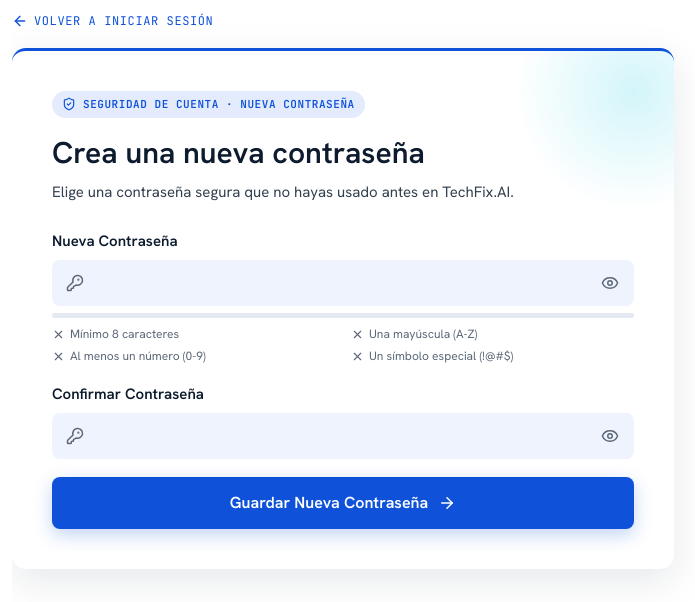
restablecer contraseña › si el token expiró ofrece pedir un enlace nuevo
This screenshot has width=695, height=602.
Type "Nueva#Clave2026" into the password field labelled "Nueva Contraseña" at (343, 283), box [52,260,634,306]
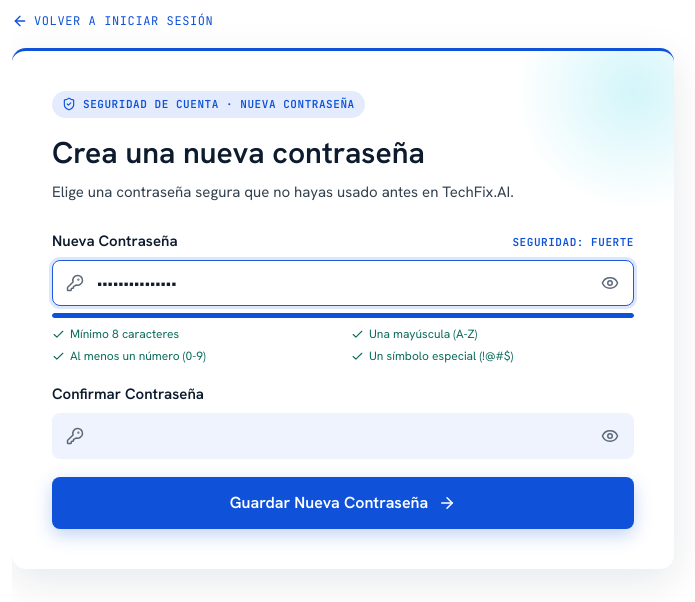
Type "Nueva#Clave2026" into the password field labelled "Confirmar Contraseña" at (343, 436), box [52,412,634,459]
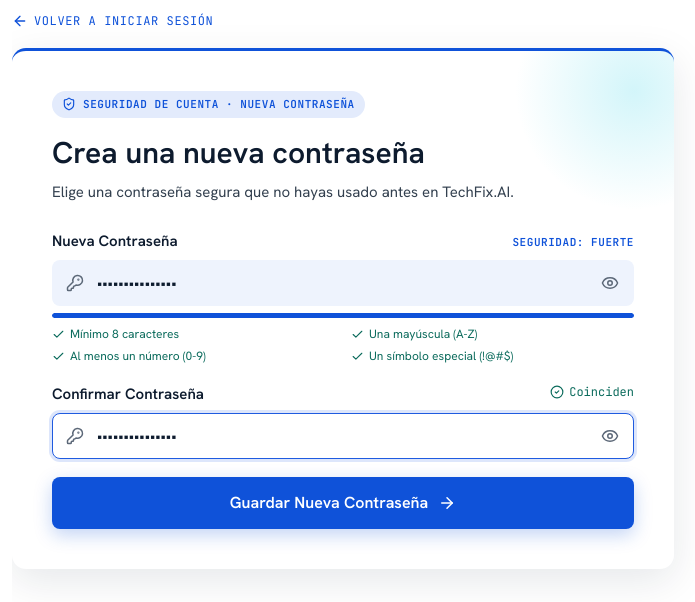
Click the button "Guardar Nueva Contraseña" at (343, 503), box [52,477,634,529]
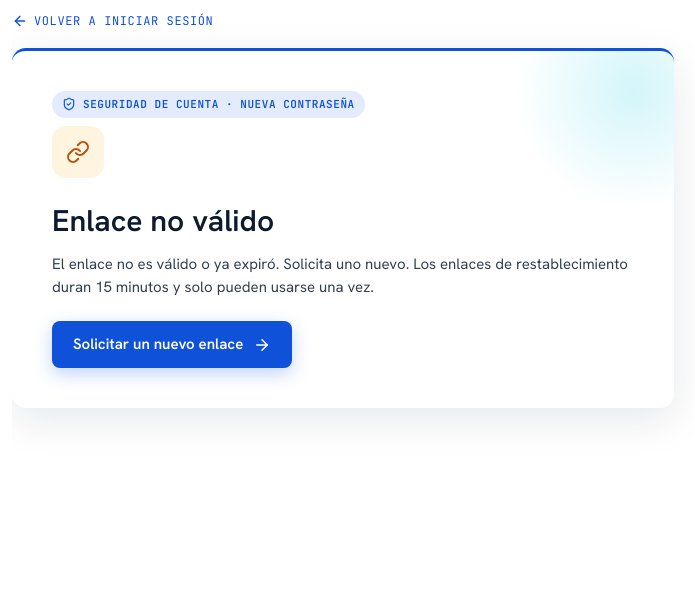
Now the heading "Enlace no válido" is shown, box [52,204,274,239]
